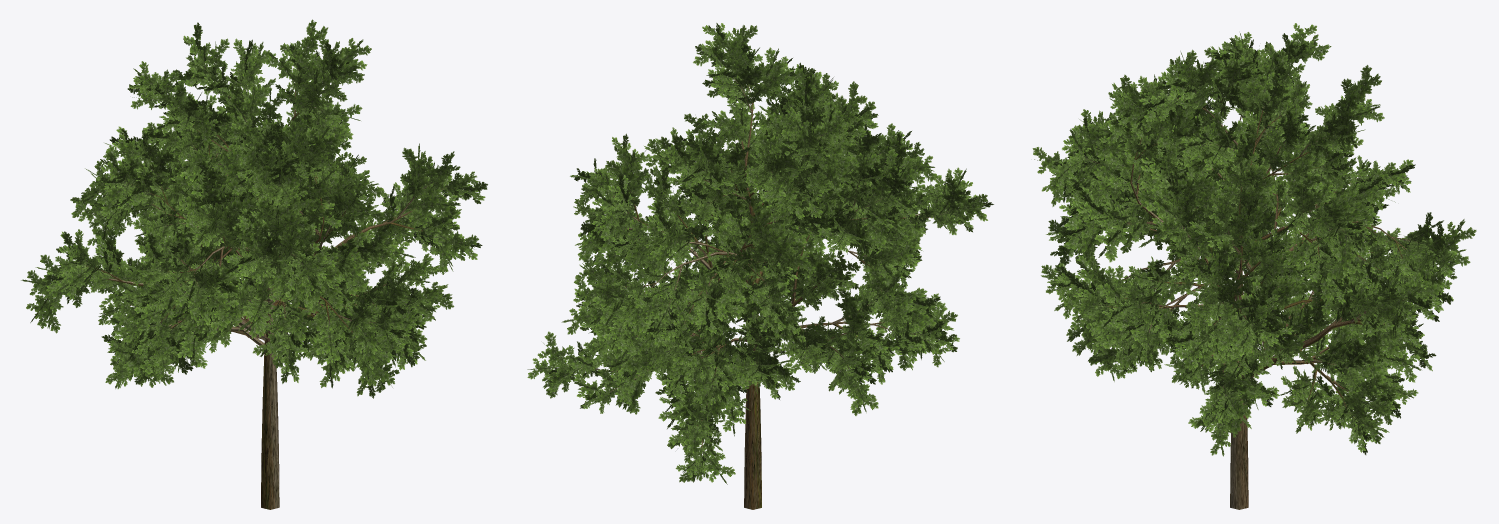
Rendered from strom_listnac.glb.
The picture shows the model from 3 angles, left to right: view 1: azimuth 30°, elevation 25°; view 2: azimuth 150°, elevation 25°; view 3: azimuth 270°, elevation 25°; orthographic projection. The views are drawn at different scales.
Visible parts, largest first — view 1: leaves, bark; view 2: leaves, bark; view 3: leaves, bark.
Part boxes in pixels (box(x1,y1,x2,y2)): leaves: box(21, 19, 487, 398); bark: box(85, 71, 445, 509); leaves: box(527, 23, 993, 484); bark: box(580, 77, 946, 509); leaves: box(1032, 23, 1476, 456); bark: box(1085, 86, 1420, 509).
Size of the model in its own units: 61.35 by 70.04 by 60.02.
2 materials, 2 textured.
